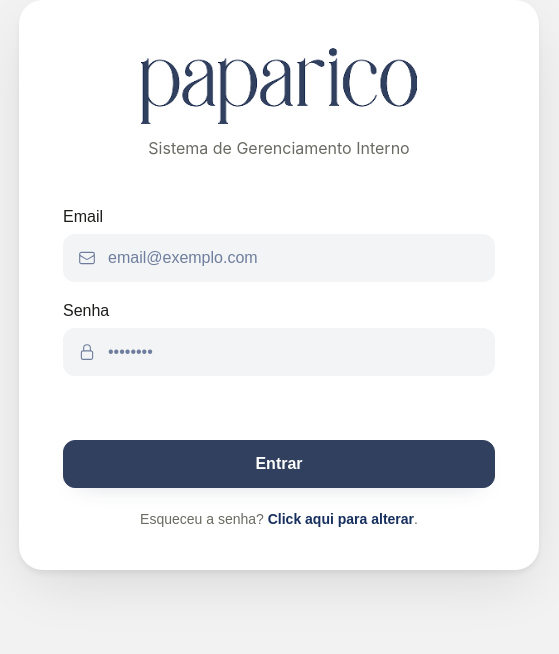
Test: LoginForm › validates required fields before submitting
Click the button "Entrar" at (279, 464), box 63,440 -> 495,488
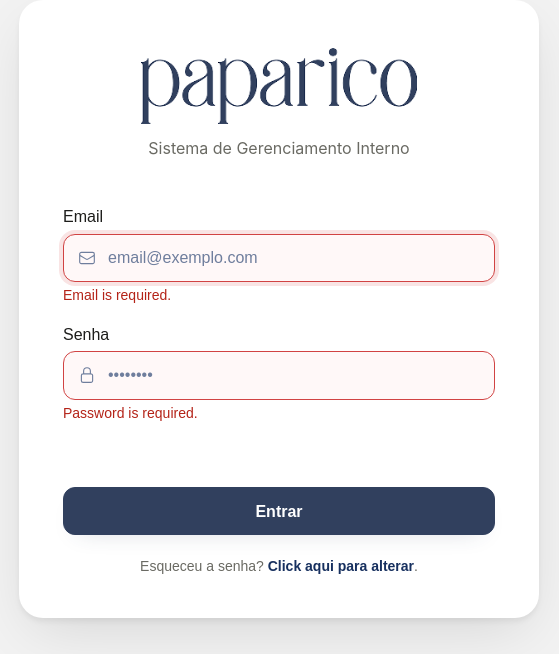
Now the text "Email is required." is shown, box 63,287 -> 171,303
Now the text "Password is required." is shown, box 63,405 -> 198,421
